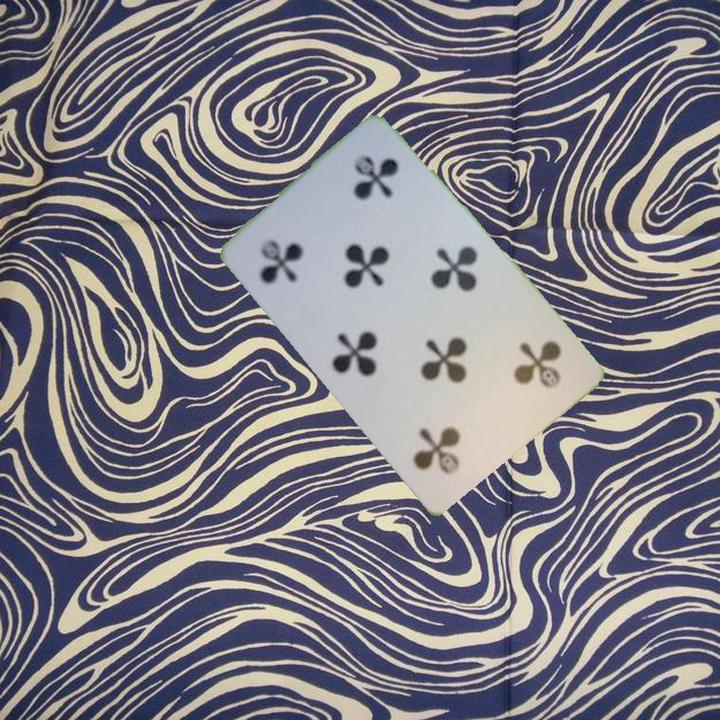c_8.png: (234, 186, 363, 313), (456, 309, 585, 436)
